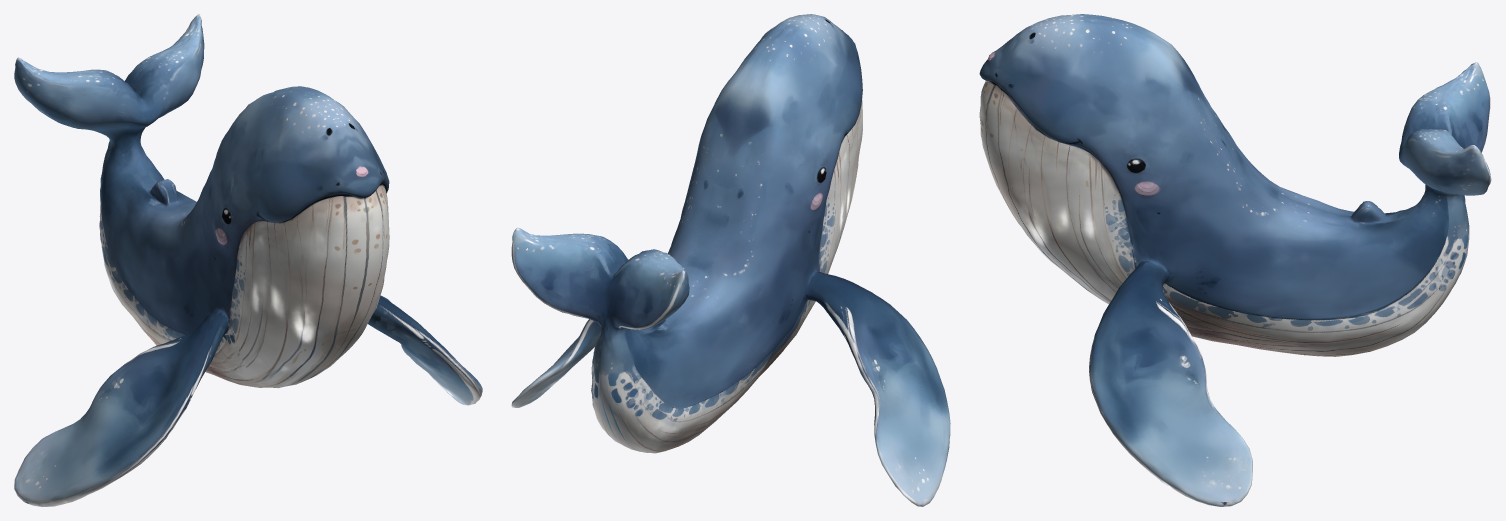
The model's file is blue-whale-baby.glb.
The picture shows the model from 3 angles, left to right: view 1: azimuth 30°, elevation 25°; view 2: azimuth 150°, elevation 25°; view 3: azimuth 270°, elevation 25°; orthographic projection. The views are drawn at different scales.
Visible parts, largest first — view 1: Mesh_0.003; view 2: Mesh_0.003; view 3: Mesh_0.003.
Boxes of the visible parts, left/top/right/bottom form: Mesh_0.003: left=14, top=14, right=482, bottom=506; Mesh_0.003: left=511, top=14, right=950, bottom=506; Mesh_0.003: left=979, top=14, right=1491, bottom=506.
Size of the model in its own units: 0.1353 by 0.12 by 0.1436.
Materials: 1 (1 with a texture image).
